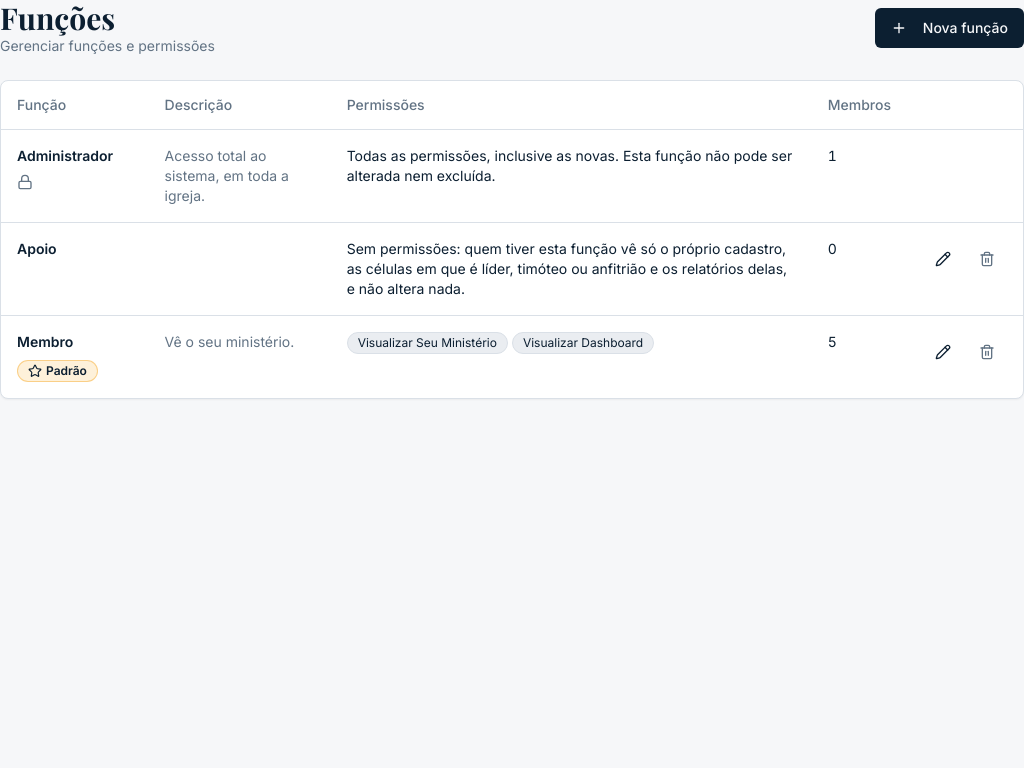
Roles (T2) › Nova função abre o formulário
The image size is (1024, 768).
Check: the text "Apoio" is shown, box [17, 238, 57, 258]
Click the button "Nova função". click: coordinates (949, 28)
box: [875, 8, 1023, 48]
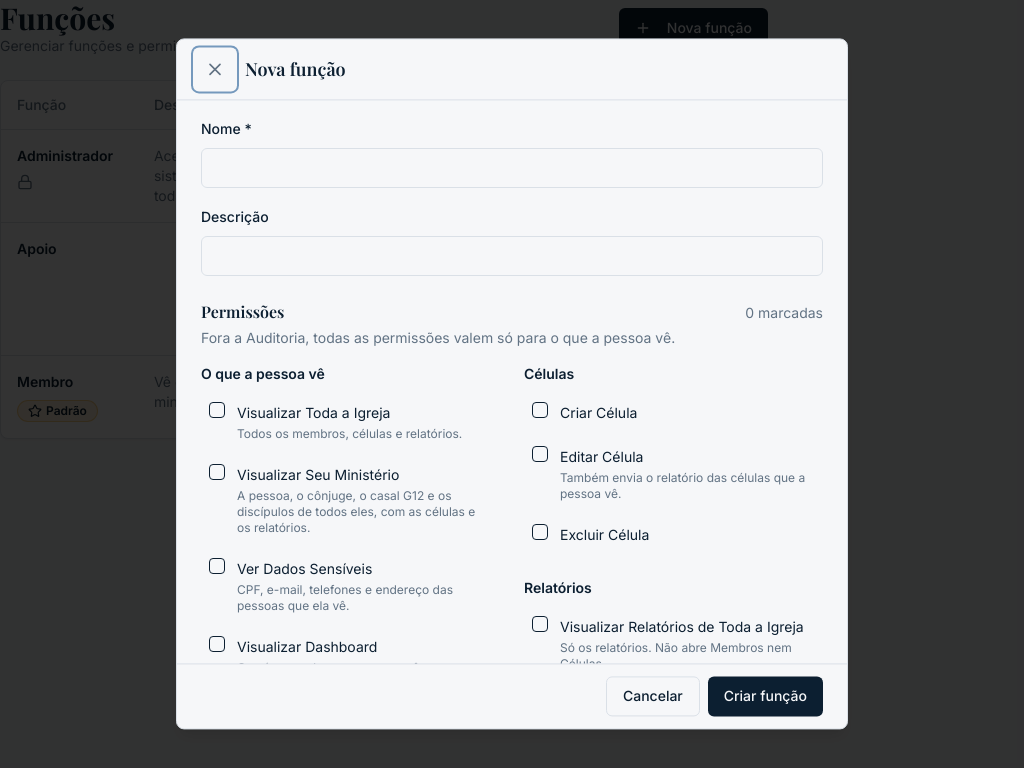
Check: the dialog "Nova função" is shown, box [176, 38, 848, 730]
